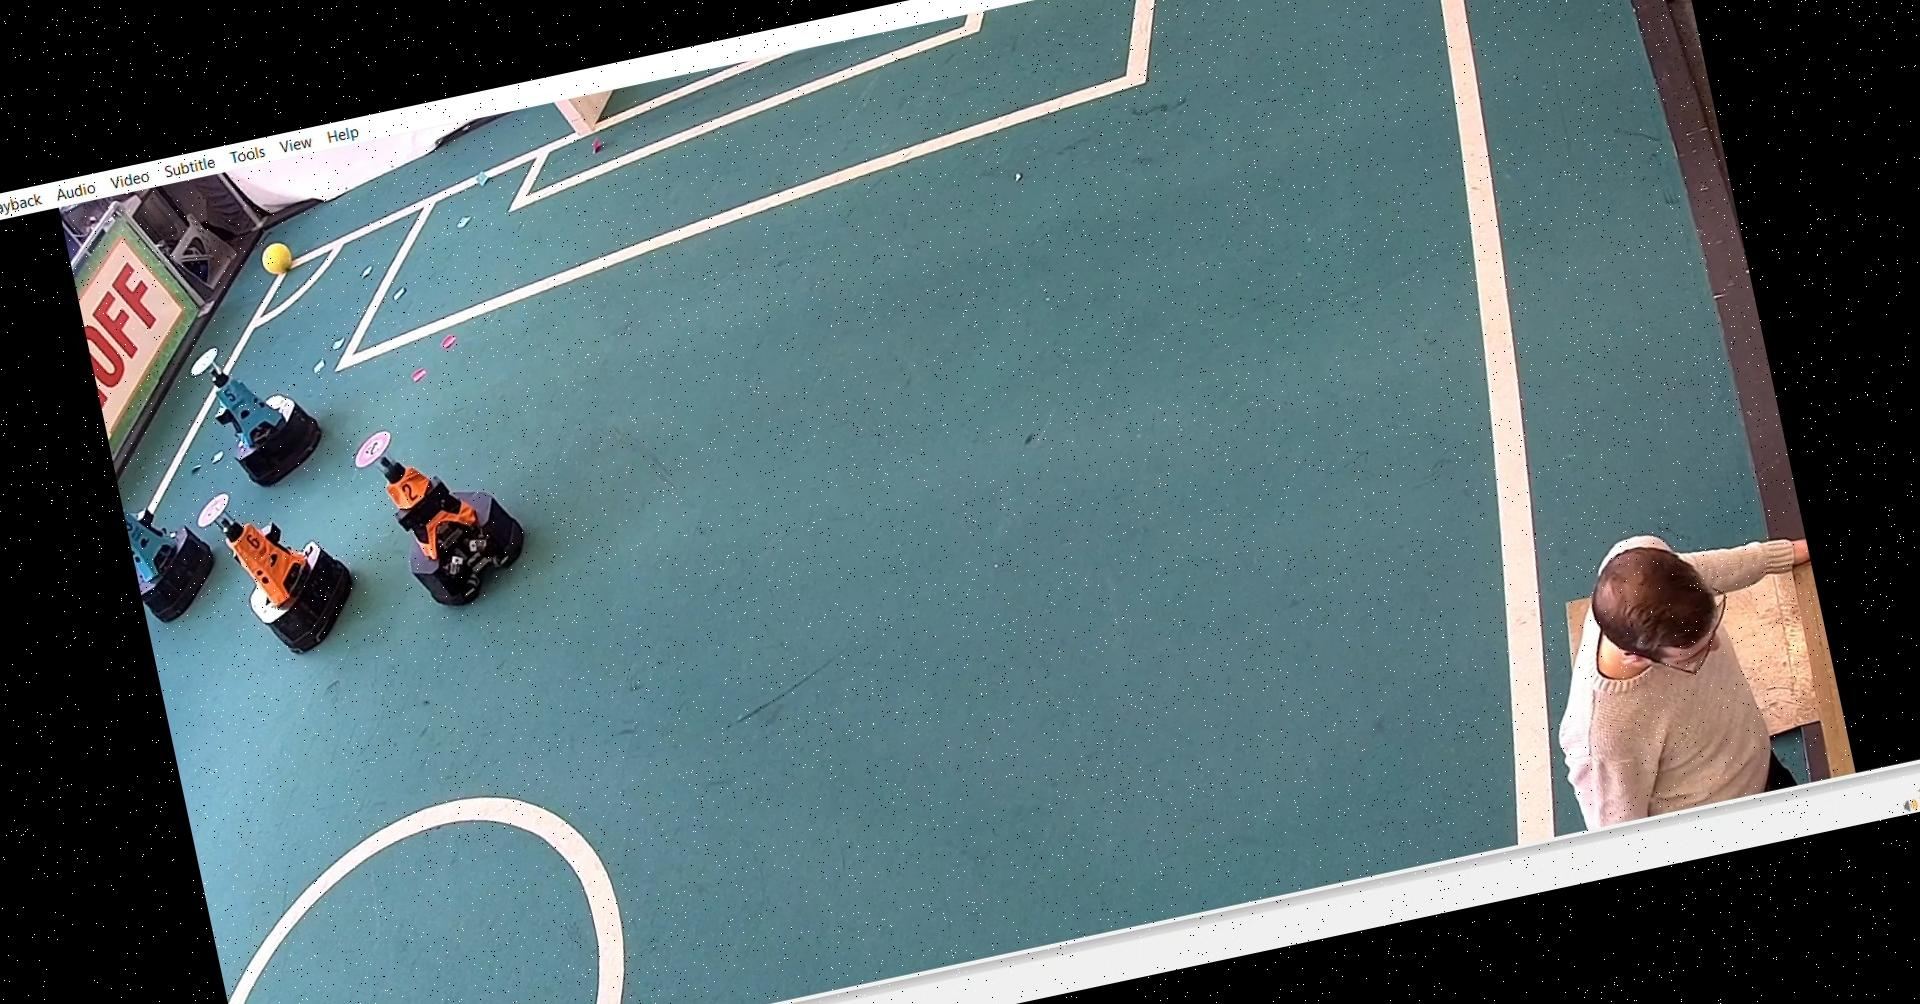Ball: (255, 237, 296, 278)
Team_Blue: (175, 317, 334, 498), (118, 475, 241, 626)
Team_Red: (348, 395, 540, 617), (194, 468, 361, 665)
